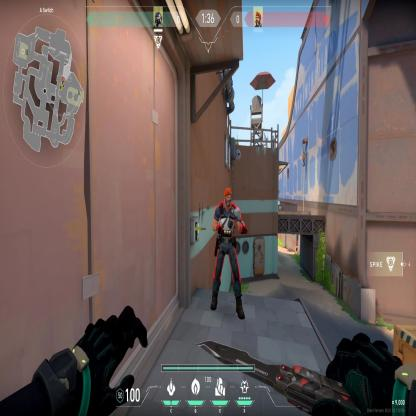enemy: (208, 183, 249, 322)
